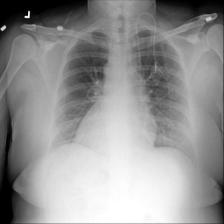normal: (47, 22, 202, 163)
